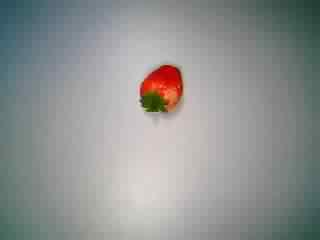strawberry: (124, 57, 192, 121)
